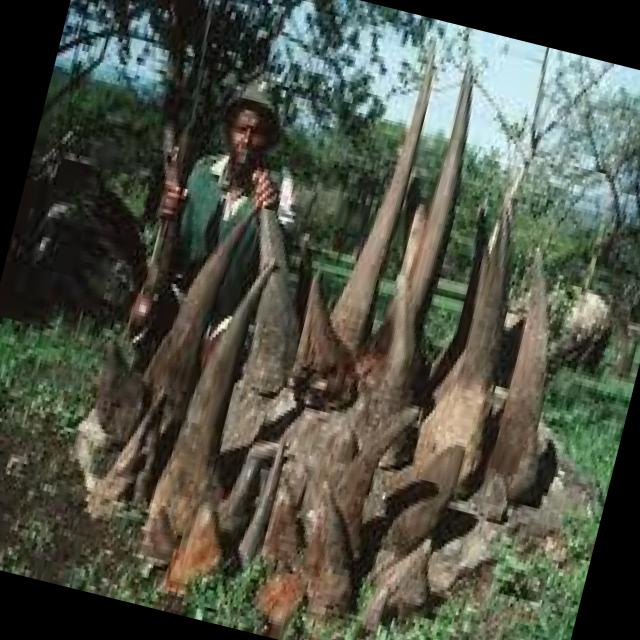animal: (190, 150, 574, 614)
poacher: (141, 80, 317, 301)
